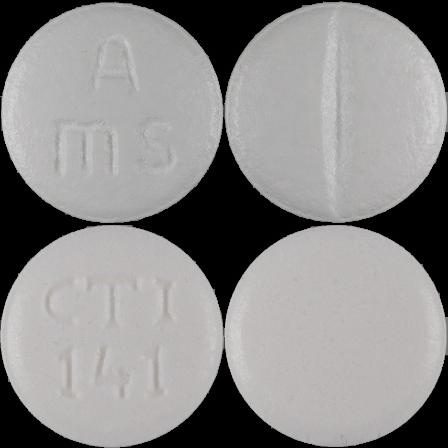63629-3566: (0, 0, 224, 224)
